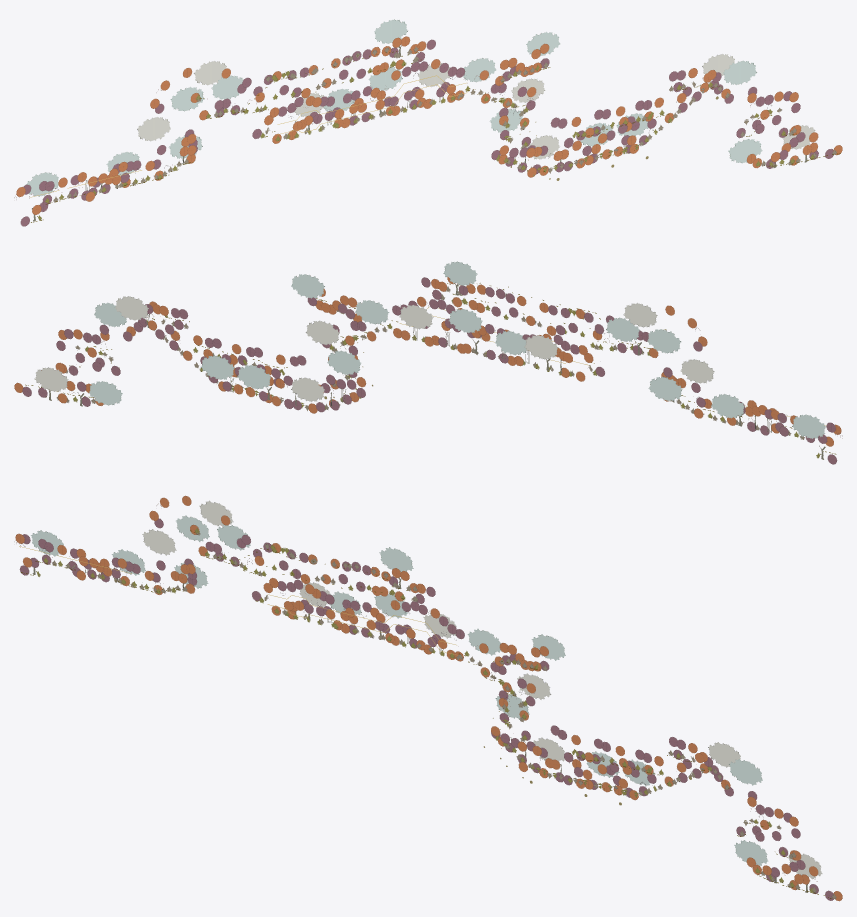
File: iseki04_bg.glb
3 renders of one model, top to bottom at view 1: azimuth 30°, elevation 25°; view 2: azimuth 150°, elevation 25°; view 3: azimuth 330°, elevation 25°, orthographic.
Parts seen in each view (by area): view 1: iseki04_bg; view 2: iseki04_bg; view 3: iseki04_bg.
Boxes of the visible parts, x1=… form: iseki04_bg: x1=14, y1=19, x2=842, y2=226; iseki04_bg: x1=14, y1=261, x2=842, y2=464; iseki04_bg: x1=14, y1=495, x2=842, y2=901.
Bounding box in the file's own units: 8614 × 2467 × 294.
16 materials, 14 textured.
